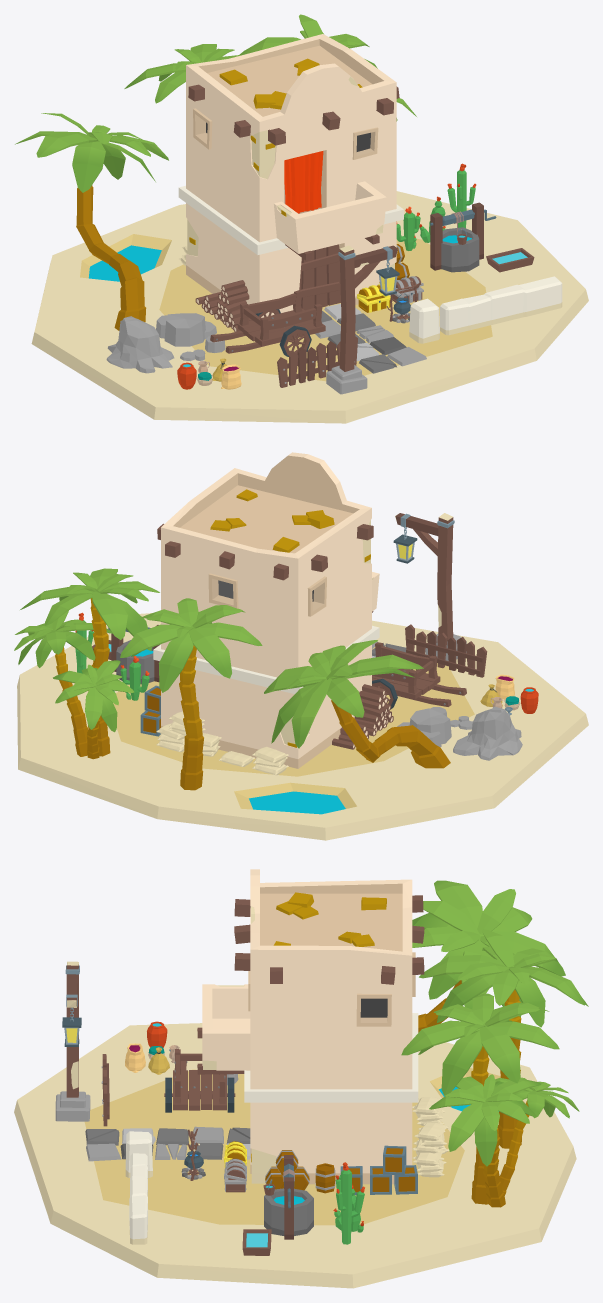
File: home.glb
3 renders of one model, top to bottom at view 1: azimuth 30°, elevation 25°; view 2: azimuth 150°, elevation 25°; view 3: azimuth 270°, elevation 25°, orthographic. The views are drawn at different scales.
Parts seen in each view (by area): view 1: Building, ground, palm01, stone fence01, Lamp, cart, well, rock02, Wooden fance, palm02, rock01, palm03 (+9 smaller); view 2: ground, Building, palm03, palm01, palm02, Lamp, cart, rock02, Wooden fance, log03, bag03, well (+4 smaller); view 3: ground, Building, palm03, palm01, palm02, cart, Lamp, well, box02, stone fence01, bag03, tile01 (+9 smaller).
Part boxes in pixels (box(x1,y1,x2,y2)): Building: box(178, 34, 403, 317); ground: box(31, 191, 588, 423); palm01: box(15, 113, 168, 330); stone fence01: box(440, 276, 562, 335); Lamp: box(326, 245, 399, 394); cart: box(210, 290, 325, 356); well: box(430, 202, 496, 272); rock02: box(106, 316, 174, 373); Wooden fance: box(277, 336, 357, 387); palm02: box(124, 44, 240, 103); rock01: box(156, 313, 216, 346); palm03: box(239, 14, 416, 121); ground: box(17, 613, 588, 840); Building: box(153, 452, 379, 768); palm03: box(14, 568, 159, 759); palm01: box(264, 640, 450, 768); palm02: box(120, 598, 262, 790); Lamp: box(393, 513, 466, 660); cart: box(372, 642, 466, 709); rock02: box(453, 706, 522, 760); Wooden fance: box(405, 624, 487, 677); log03: box(354, 684, 393, 736); bag03: box(156, 711, 221, 756); well: box(108, 625, 160, 684); ground: box(14, 1023, 576, 1288); Building: box(197, 869, 424, 1184); palm03: box(401, 993, 579, 1207); palm01: box(412, 880, 565, 1032); palm02: box(419, 929, 588, 1148); cart: box(164, 1049, 235, 1112); Lamp: box(55, 961, 90, 1121); well: box(264, 1155, 313, 1239); box02: box(370, 1145, 417, 1194); stone fence01: box(129, 1153, 147, 1244); bag03: box(412, 1122, 449, 1177); tile01: box(190, 1126, 250, 1159).
Size of the model in its own units: 15.14 by 7.68 by 14.19.
1 material, 1 textured.
